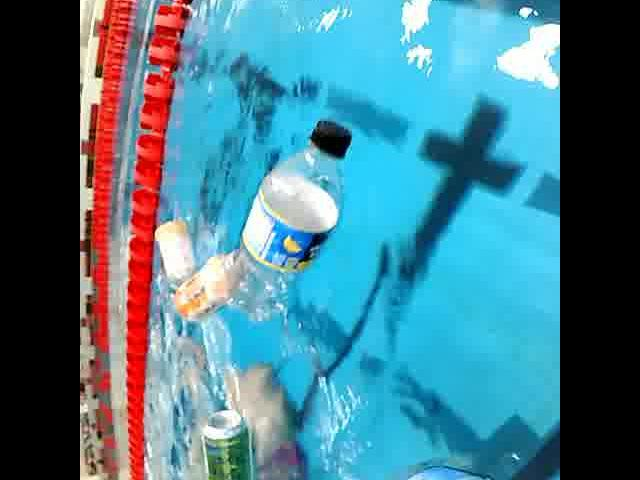Bottle: (234, 104, 358, 298), (172, 239, 250, 325), (354, 459, 560, 480), (147, 216, 199, 298)
Can: (199, 402, 255, 480)
